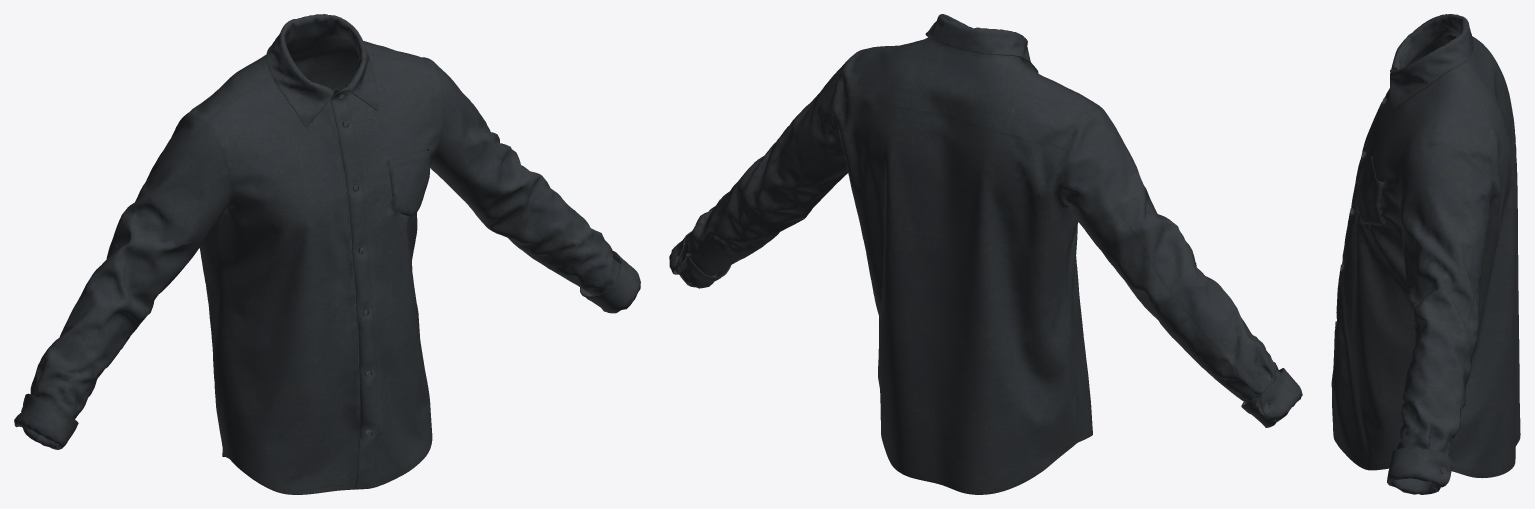
The model's file is realistic_dress_shirt.glb.
3 renders of one model, left to right at view 1: azimuth 30°, elevation 25°; view 2: azimuth 150°, elevation 25°; view 3: azimuth 270°, elevation 25°, orthographic. The views are drawn at different scales.
Parts seen in each view (by area): view 1: Object_9, Object_7, Object_6, Object_2; view 2: Object_2, Object_7, Object_6, Object_9; view 3: Object_9, Object_6, Object_2, Object_7.
Boxes of the visible parts, bbox=[...] form: Object_9: bbox=[205, 14, 444, 494]; Object_7: bbox=[14, 114, 231, 449]; Object_6: bbox=[430, 61, 640, 313]; Object_2: bbox=[186, 35, 436, 458]; Object_2: bbox=[833, 37, 1096, 494]; Object_7: bbox=[1060, 106, 1302, 427]; Object_6: bbox=[669, 55, 852, 288]; Object_9: bbox=[895, 14, 1099, 442]; Object_9: bbox=[1331, 14, 1473, 470]; Object_6: bbox=[1387, 143, 1492, 494]; Object_2: bbox=[1432, 32, 1520, 477]; Object_7: bbox=[1411, 34, 1456, 63].
Size of the model in its own units: 115 by 77.73 by 31.2.
8 materials, 6 textured.
